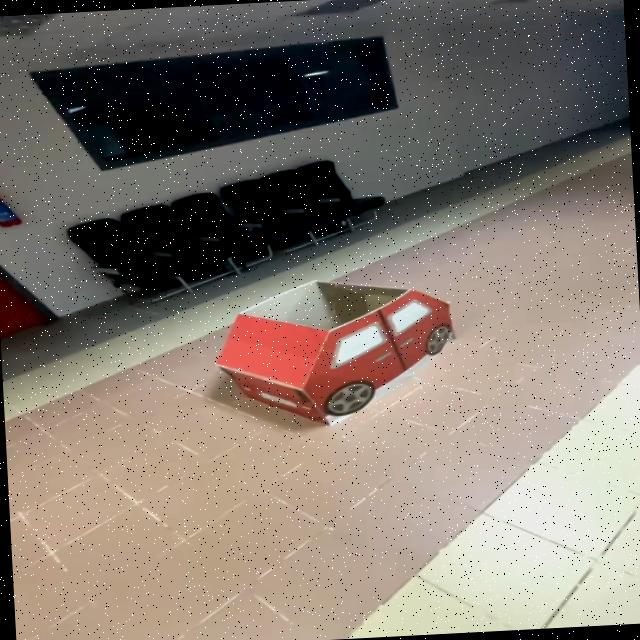red_car: (188, 262, 491, 452)
